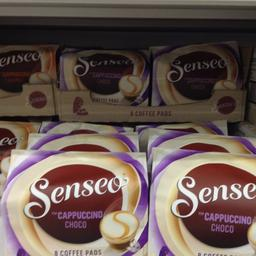coffee: (2, 148, 148, 254), (146, 144, 254, 255), (150, 39, 239, 105), (57, 44, 150, 106)
